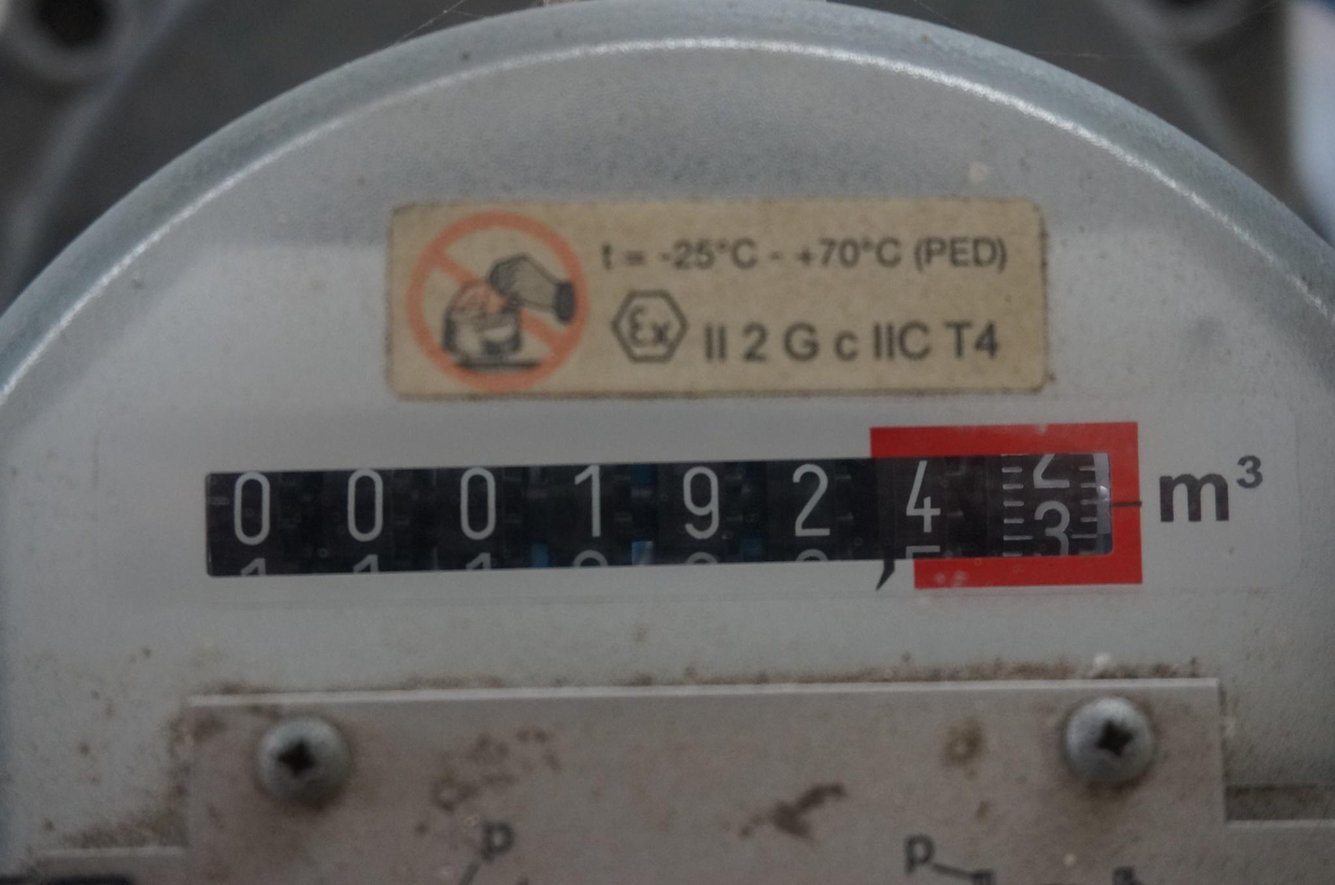analog_dial: (195, 408, 1157, 643)
